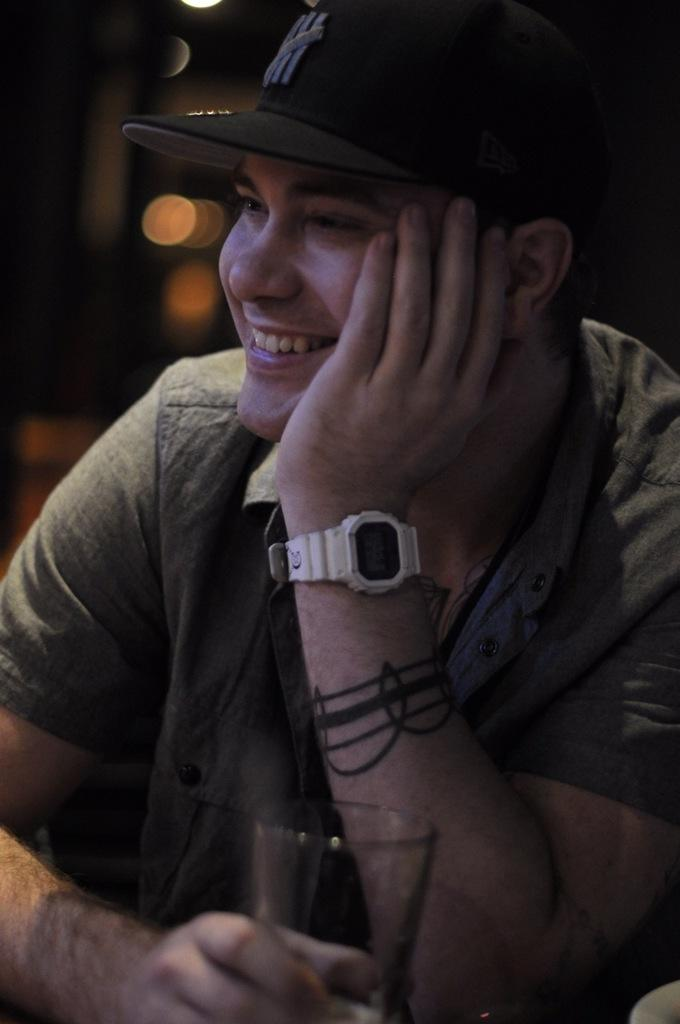Hat: (122, 0, 602, 204)
